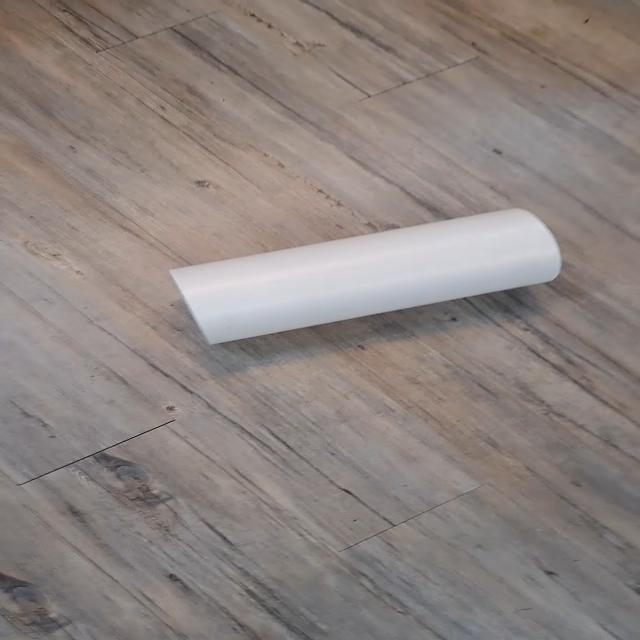CORAL: (166, 202, 580, 356)
